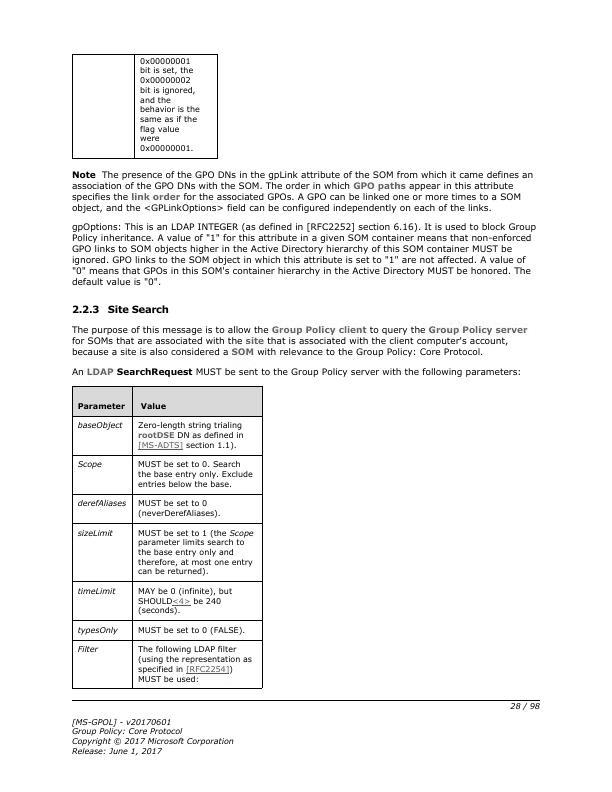table: (72, 386, 265, 689), (72, 53, 218, 159)
text: (68, 219, 536, 288), (69, 169, 535, 213), (69, 322, 531, 357), (70, 713, 237, 756), (69, 365, 526, 379), (69, 302, 172, 317)
